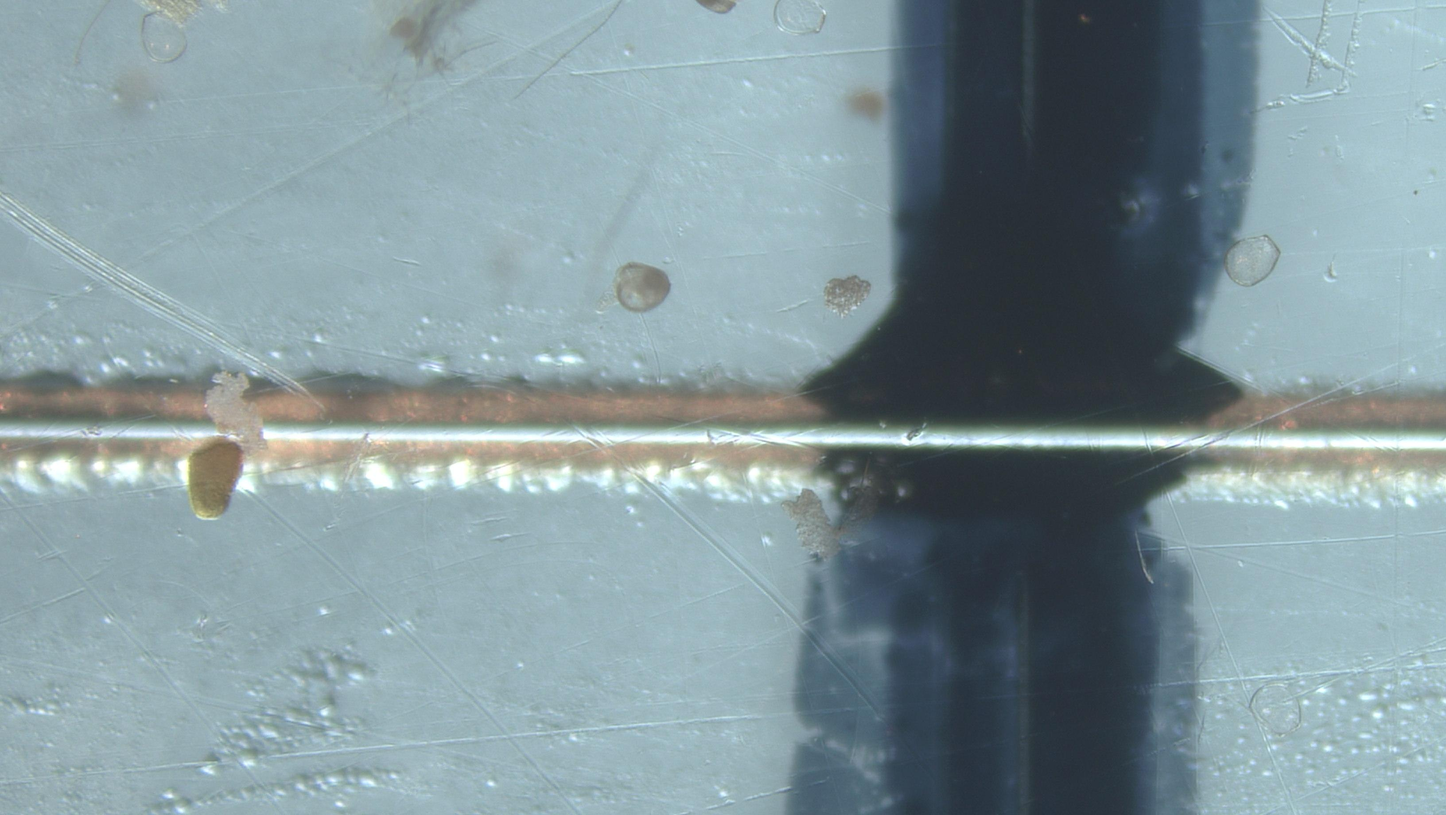dead: (1249, 680, 1306, 737), (1225, 235, 1281, 287), (140, 13, 187, 63), (774, 0, 826, 35)
live: (615, 262, 670, 313)
